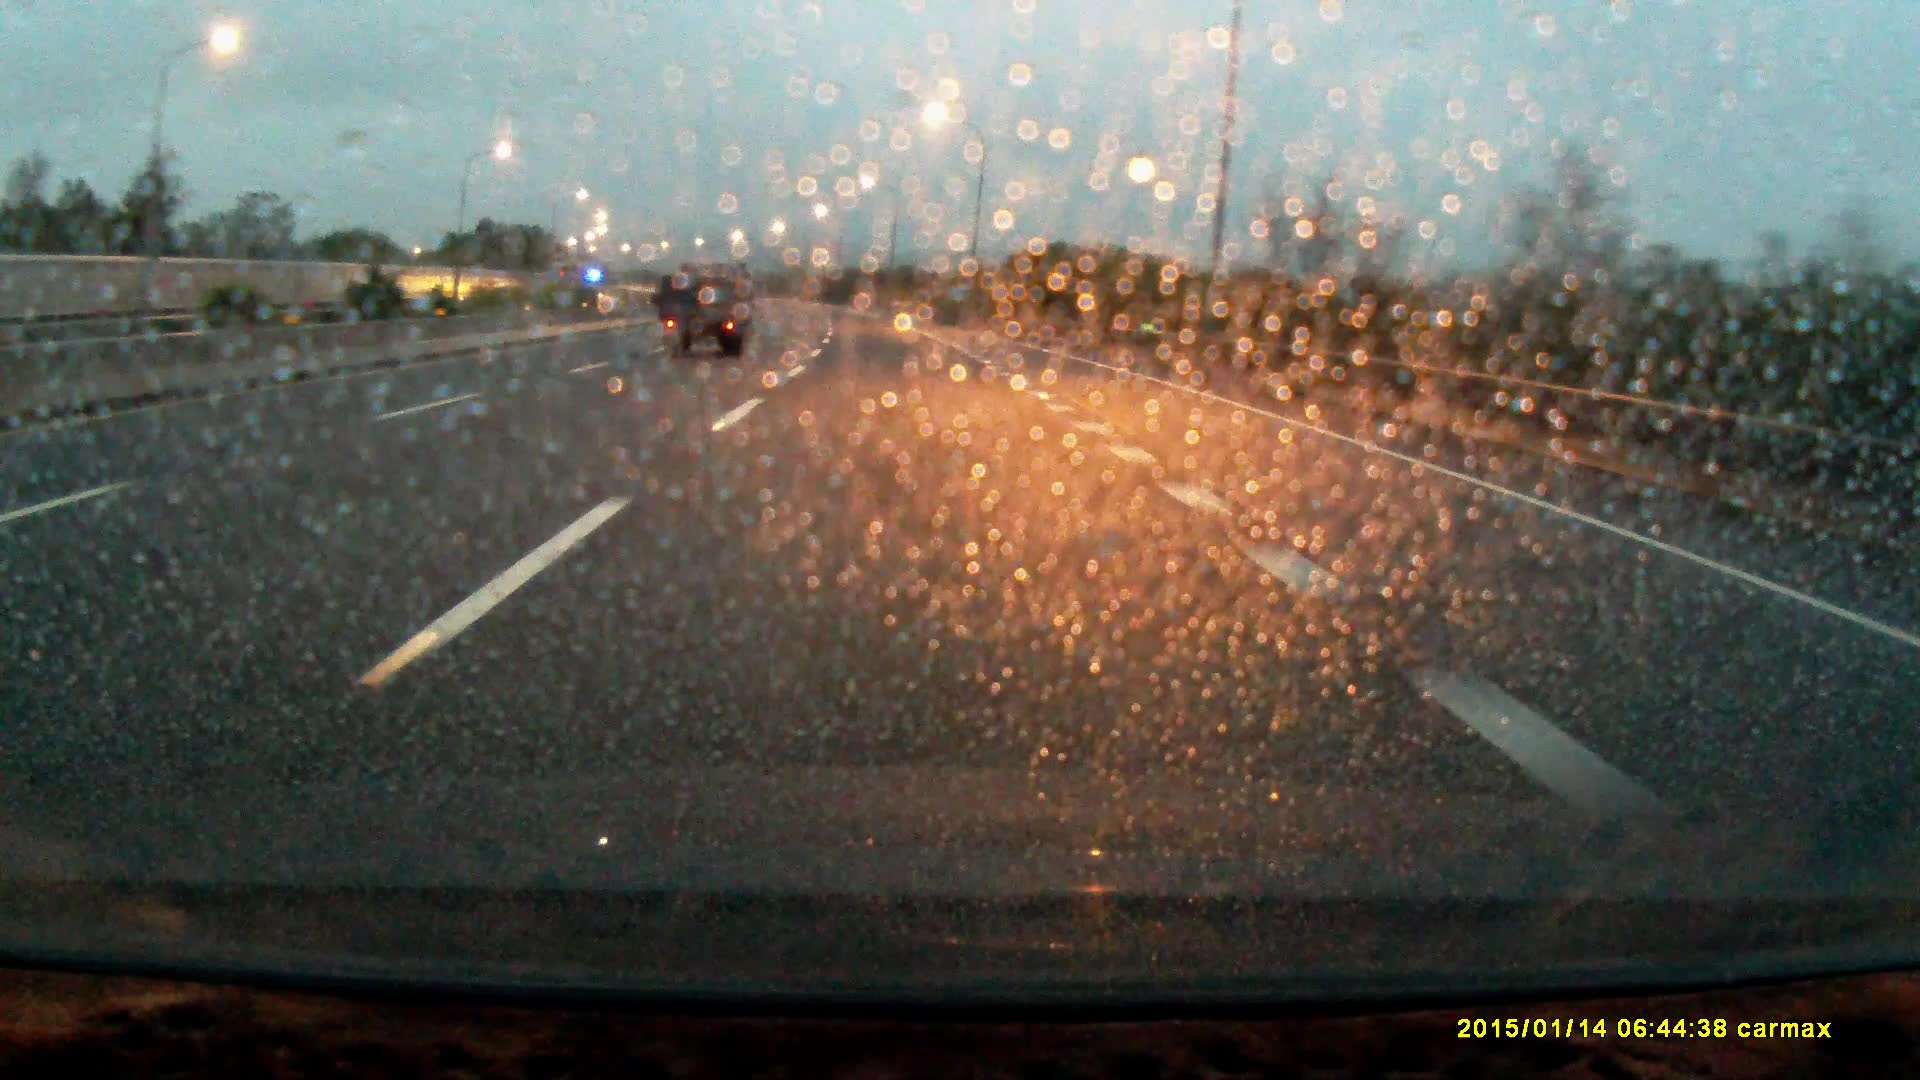vehicle: (663, 262, 756, 363)
